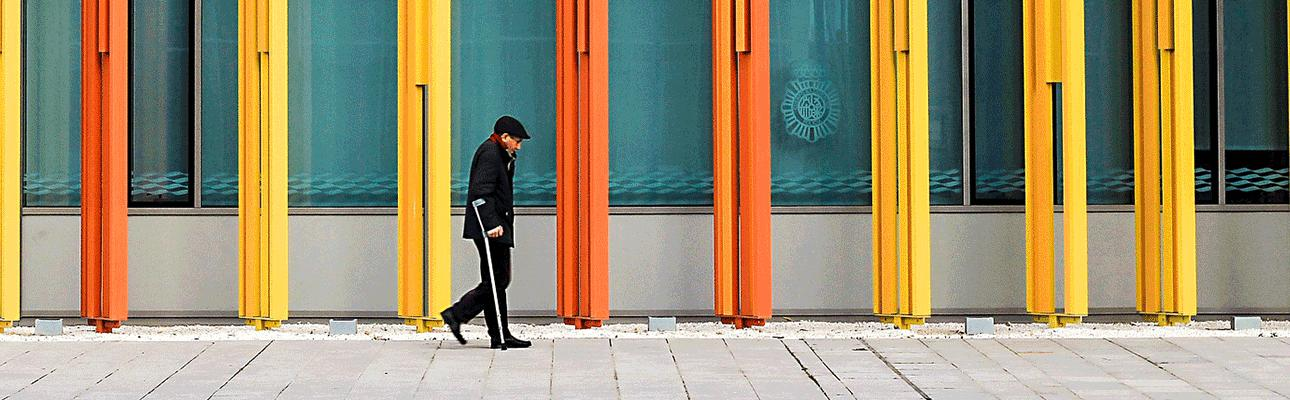crutches: (440, 115, 531, 351)
